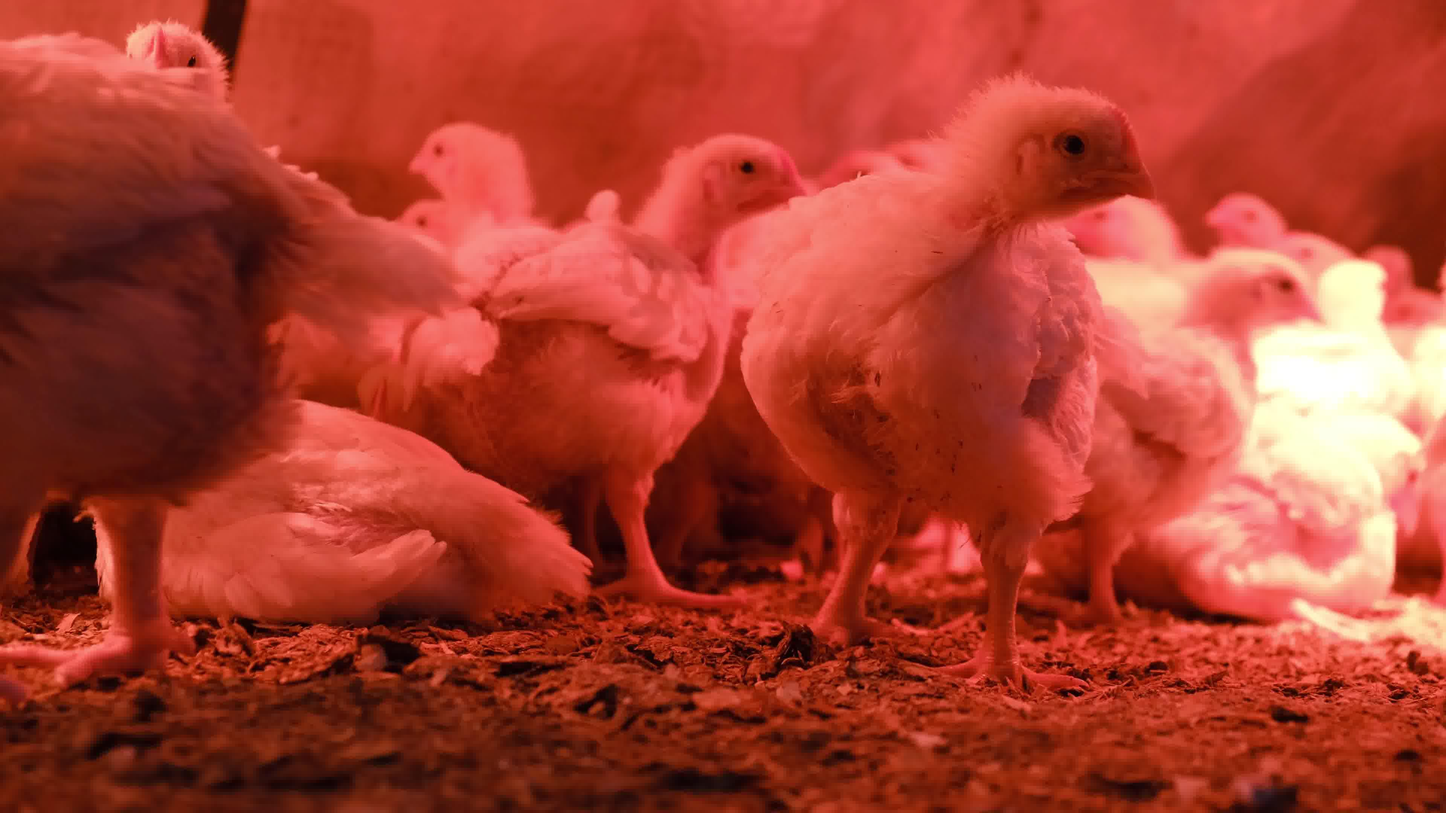AbNormal: (94, 392, 592, 625), (1049, 418, 1435, 622)
Normal: (4, 32, 457, 684), (739, 79, 1158, 699), (415, 132, 814, 604), (1033, 256, 1328, 629), (1262, 258, 1403, 407), (418, 121, 541, 271), (126, 15, 228, 125), (398, 192, 484, 291)
